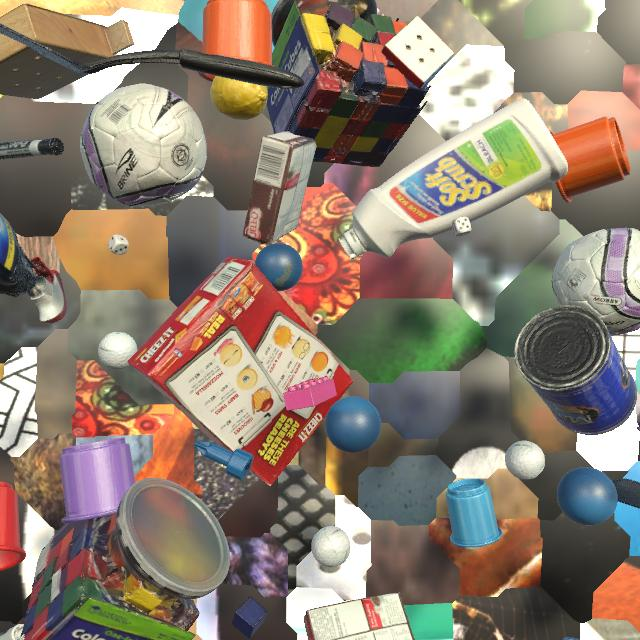ycb_002_master_chef_can: (514, 305, 637, 435)
ycb_003_cracker_box: (127, 257, 353, 486)
ycb_008_pudding_box: (243, 131, 316, 245), (303, 593, 415, 640)
ycb_014_lemon: (210, 76, 268, 120)
